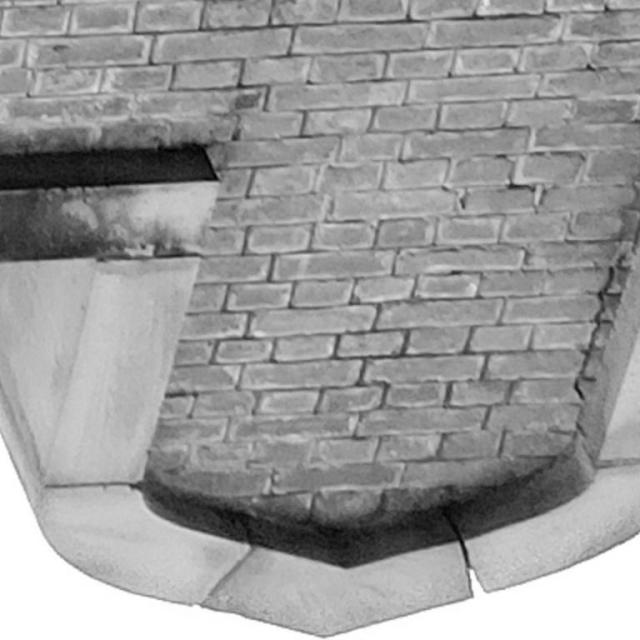crack: (572, 252, 626, 400)
